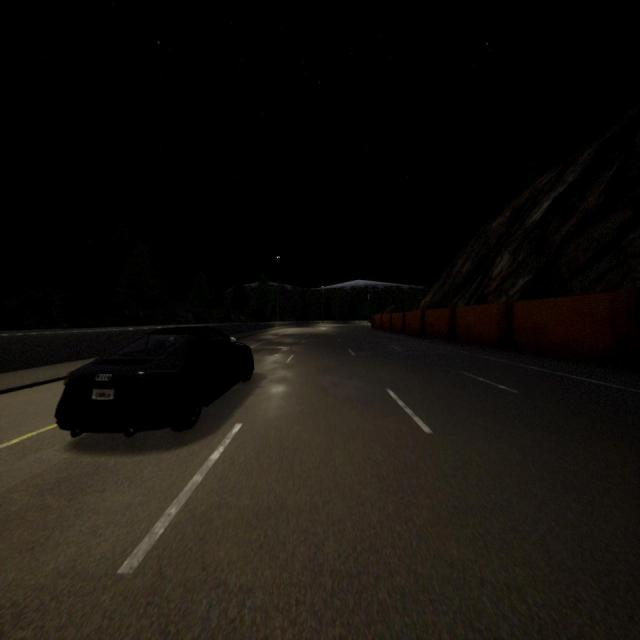Vehicle: (55, 326, 253, 437)
